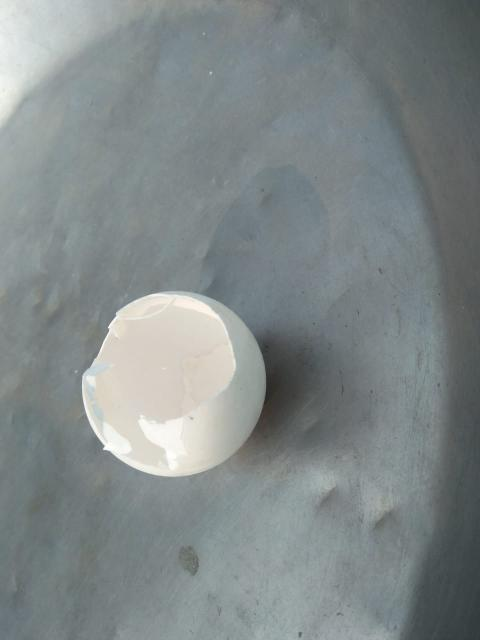Roto: (80, 290, 267, 478)
